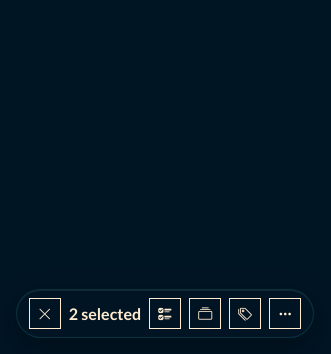
Test: BatchActionBar on a narrow (phone) screen › keeps the primary actions inline and folds the rest into an overflow menu
Expected: the button named "Clear selection" is shown, [29,298,61,329]
Expected: the text "2 selected" is shown, [69,302,141,326]
Click the button named "More actions" at (285, 314), box [269,298,301,329]
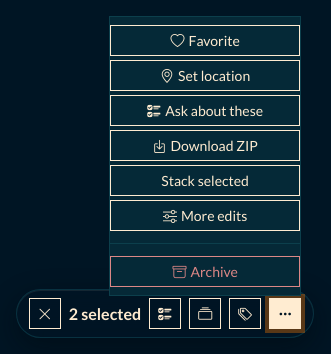
Expected: the button "Favorite" is shown, [110,25,300,56]
Expected: the button "Archive" is shown, [110,256,300,287]
Expected: the button "Ask about these" is shown, [110,95,300,126]
